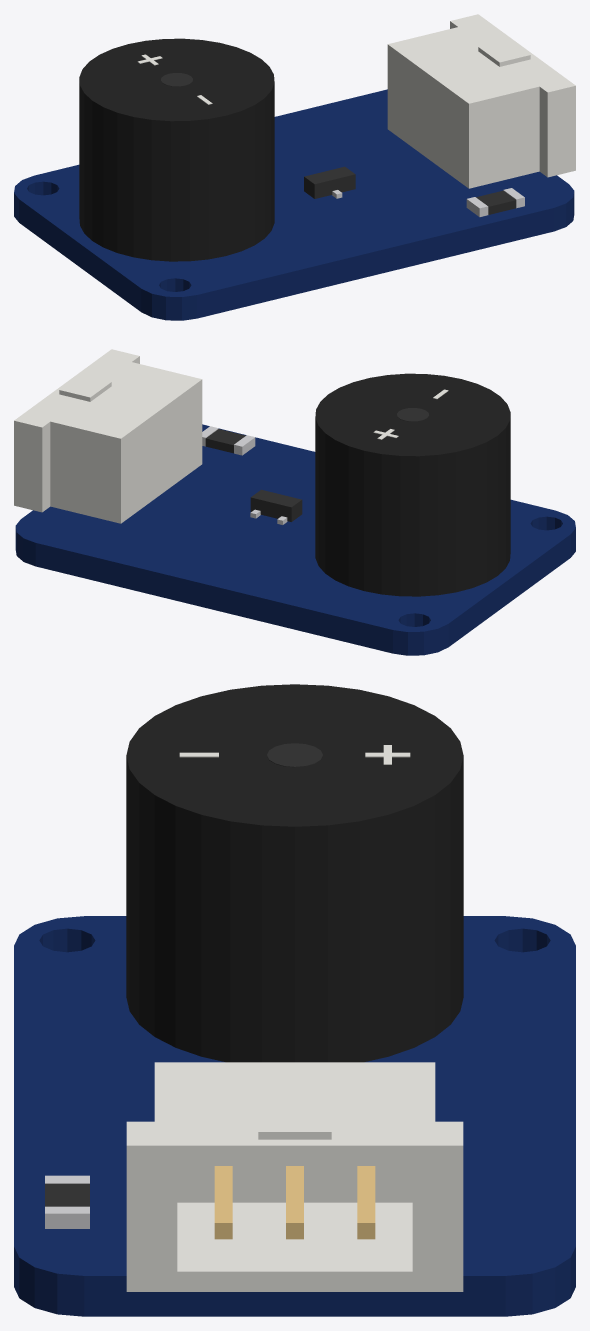
Rendered from buzzer.glb.
The picture shows the model from 3 angles, top to bottom: view 1: azimuth 30°, elevation 25°; view 2: azimuth 150°, elevation 25°; view 3: azimuth 270°, elevation 25°; orthographic projection. The views are drawn at different scales.
Visible parts, largest first — view 1: buzzer_pcb, buzzer_body, buzzer_xh, buzzer_transistor, buzzer, buzzer_r_1_ends; view 2: buzzer_pcb, buzzer_body, buzzer_xh, buzzer_transistor, buzzer, buzzer_r_1_ends; view 3: buzzer_body, buzzer_pcb, buzzer_xh, buzzer, buzzer_r_1_ends, buzzer_opening.
Boxes of the visible parts, box(x1,y1,x2,y2) form: buzzer_pcb: box(14, 89, 574, 320); buzzer_body: box(79, 38, 274, 261); buzzer_xh: box(387, 14, 575, 188); buzzer_transistor: box(304, 166, 355, 198); buzzer: box(476, 190, 516, 214); buzzer_r_1_ends: box(466, 188, 524, 216); buzzer_pcb: box(15, 424, 575, 655); buzzer_body: box(315, 373, 510, 596); buzzer_xh: box(14, 349, 202, 523); buzzer_transistor: box(250, 489, 302, 521); buzzer: box(205, 429, 245, 453); buzzer_r_1_ends: box(202, 426, 255, 455); buzzer_body: box(126, 684, 463, 1062); buzzer_pcb: box(14, 916, 575, 1316); buzzer_xh: box(126, 1062, 463, 1291); buzzer: box(45, 1166, 375, 1239); buzzer_r_1_ends: box(45, 1175, 89, 1228); buzzer_opening: box(267, 743, 322, 767).
Size of the model in its own units: 0.0317 by 0.0111 by 0.02.
